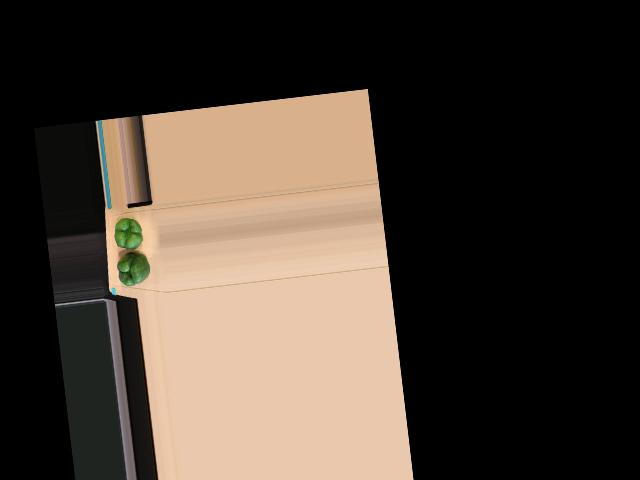bell_pepper: (112, 216, 148, 252)
